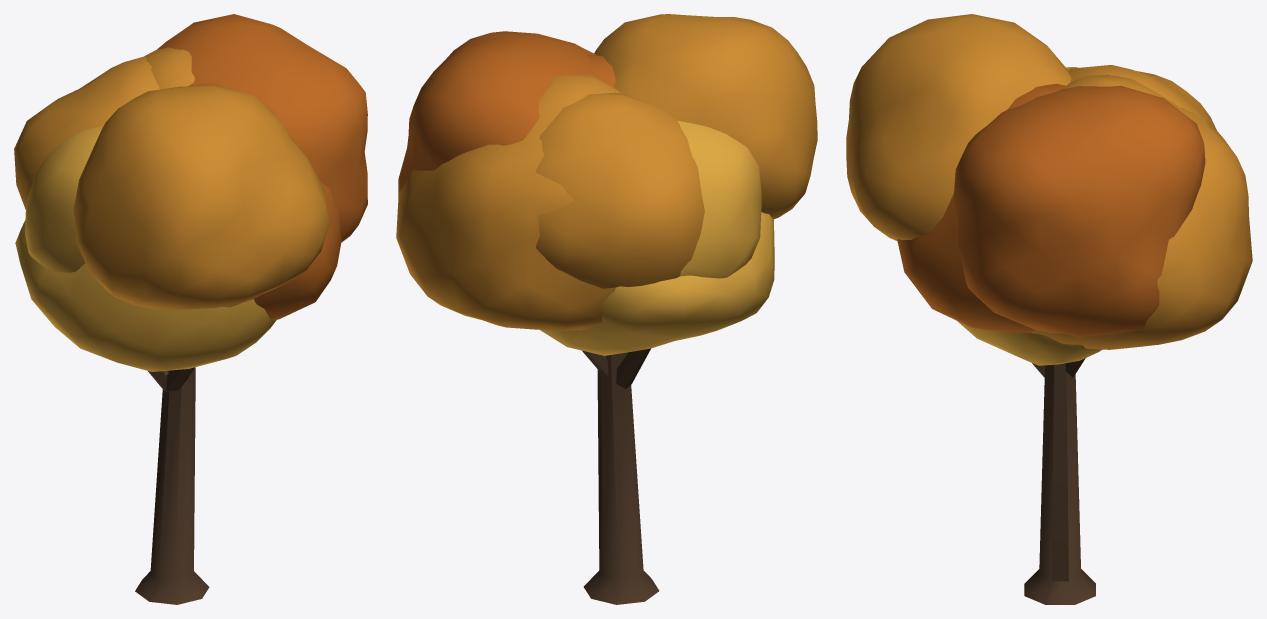
The model's file is tree_c.glb.
3 views of the same model, side by side, from view 1: azimuth 30°, elevation 25°; view 2: azimuth 150°, elevation 25°; view 3: azimuth 270°, elevation 25° (orthographic). The views are drawn at different scales.
Parts seen in each view (by area): view 1: leaves.006, leaves.005, leaves.001, trunk, leaves, leaves.004, leaves.002, leaves.003; view 2: leaves.003, leaves, leaves.006, leaves.005, leaves.001, trunk, leaves.004, branch.001; view 3: leaves.005, leaves.006, leaves.003, trunk, leaves.002, leaves.001, leaves.
Part boxes in pixels (x1=…): leaves.006: x1=73, y1=85, x2=329, y2=309; leaves.005: x1=157, y1=14, x2=367, y2=242; leaves.001: x1=15, y1=220, x2=276, y2=371; trunk: x1=135, y1=367, x2=209, y2=604; leaves: x1=14, y1=56, x2=159, y2=209; leaves.004: x1=25, y1=127, x2=258, y2=307; leaves.002: x1=187, y1=82, x2=341, y2=320; leaves.003: x1=144, y1=47, x2=194, y2=89; leaves.003: x1=396, y1=74, x2=621, y2=330; leaves: x1=536, y1=92, x2=704, y2=288; leaves.006: x1=594, y1=14, x2=817, y2=218; leaves.005: x1=398, y1=31, x2=599, y2=196; leaves.001: x1=540, y1=212, x2=774, y2=355; trunk: x1=583, y1=352, x2=659, y2=604; leaves.004: x1=678, y1=120, x2=761, y2=278; branch.001: x1=616, y1=348, x2=650, y2=389; leaves.005: x1=953, y1=85, x2=1205, y2=337; leaves.006: x1=846, y1=14, x2=1071, y2=240; leaves.003: x1=1031, y1=74, x2=1252, y2=349; trunk: x1=1024, y1=363, x2=1095, y2=604; leaves.002: x1=897, y1=83, x2=1066, y2=332; leaves.001: x1=957, y1=321, x2=1101, y2=365; leaves: x1=1067, y1=65, x2=1216, y2=129.
Size of the model in its own units: 1.17 by 1.86 by 1.26.
